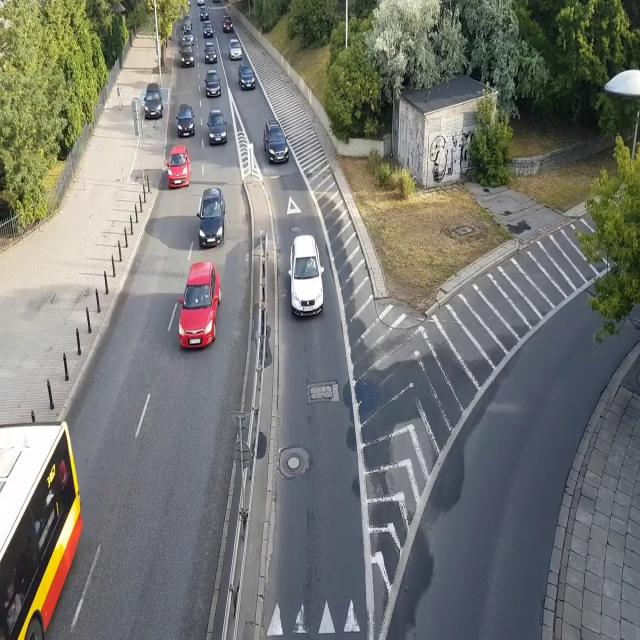bus: (0, 414, 84, 640)
car: (176, 262, 222, 353), (287, 234, 325, 322), (195, 186, 228, 247), (165, 145, 192, 190), (263, 119, 290, 164), (206, 108, 228, 146), (143, 82, 164, 120), (176, 102, 196, 139), (238, 61, 257, 90), (204, 69, 222, 99), (203, 40, 218, 66), (180, 42, 195, 67), (228, 36, 243, 60), (221, 14, 234, 33), (202, 19, 214, 37), (182, 30, 194, 47), (181, 14, 192, 30), (199, 6, 209, 20), (196, 0, 205, 5)
